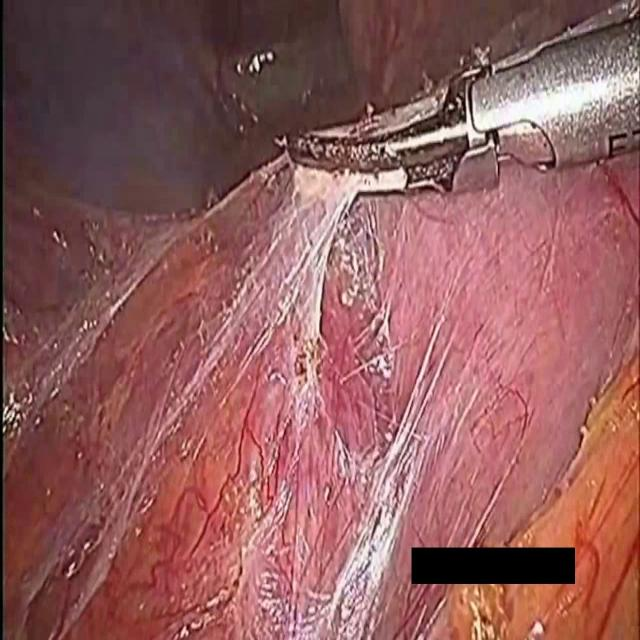surgical-area: (0, 0, 640, 639), (394, 541, 640, 639)
surgical-tool: (282, 25, 640, 203)
